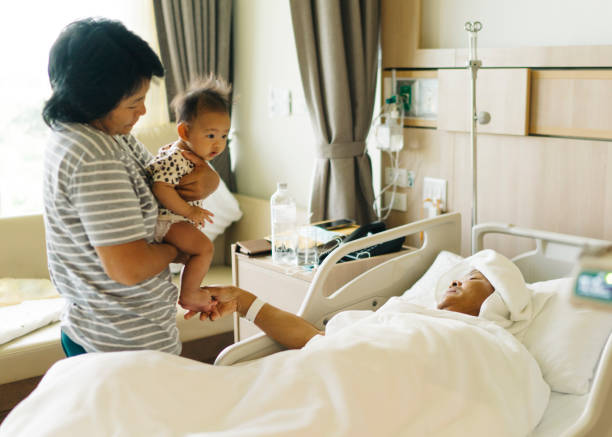bedrail: (215, 212, 464, 365), (560, 331, 612, 437)
bedside_table: (232, 233, 421, 342)
curtain: (287, 1, 399, 222), (152, 1, 240, 82)
hospital_bed: (1, 212, 612, 437)
iv_pole: (463, 16, 499, 218)
patient: (183, 247, 544, 437)
visitor: (33, 24, 178, 355), (153, 85, 233, 314)
